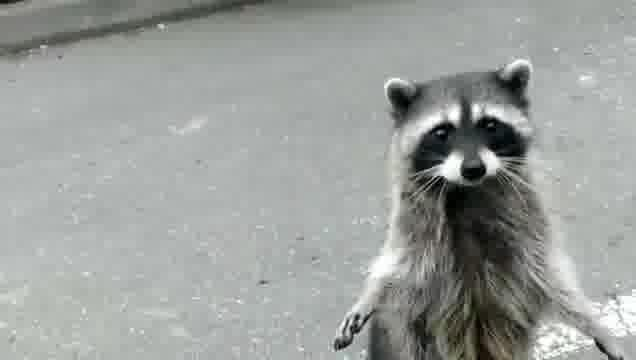raccoon: (334, 60, 627, 360)
